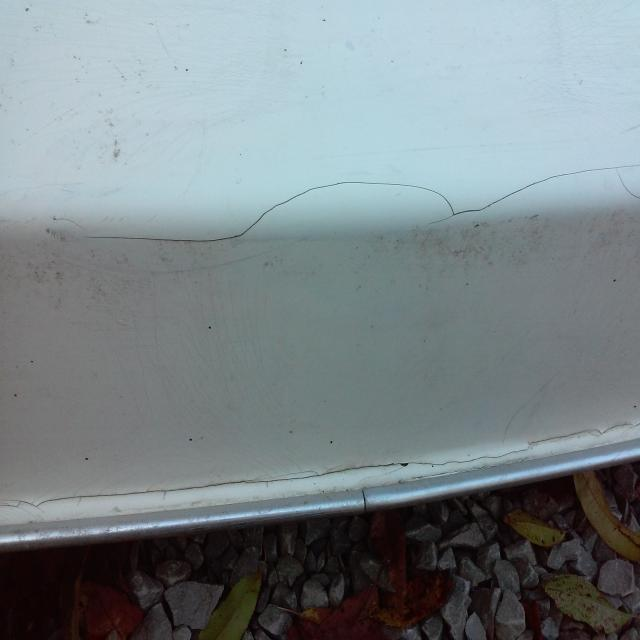Rupture: (5, 418, 640, 513), (78, 162, 638, 248)
